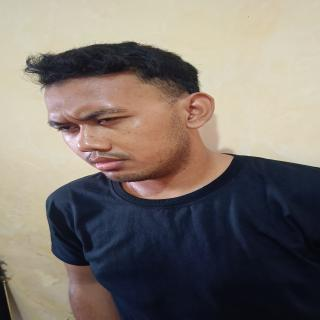Marah: (40, 80, 199, 186)
